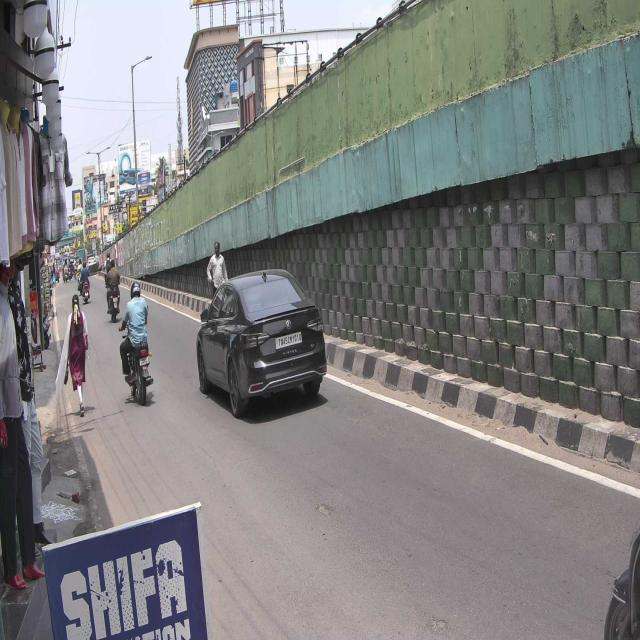single_rider: (118, 280, 154, 409)
